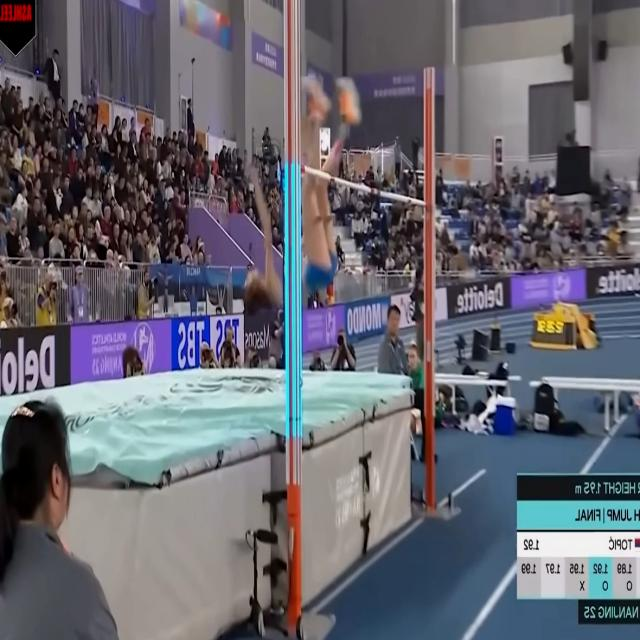land: (241, 72, 363, 319)
